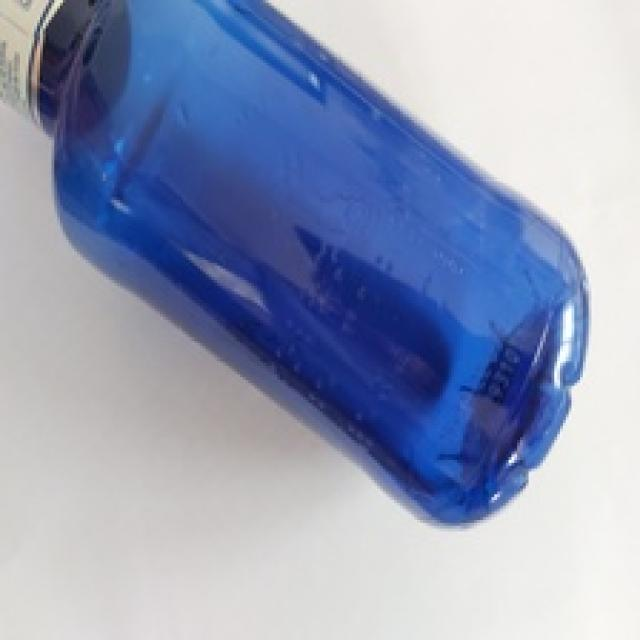Plastic: (0, 0, 589, 523)
